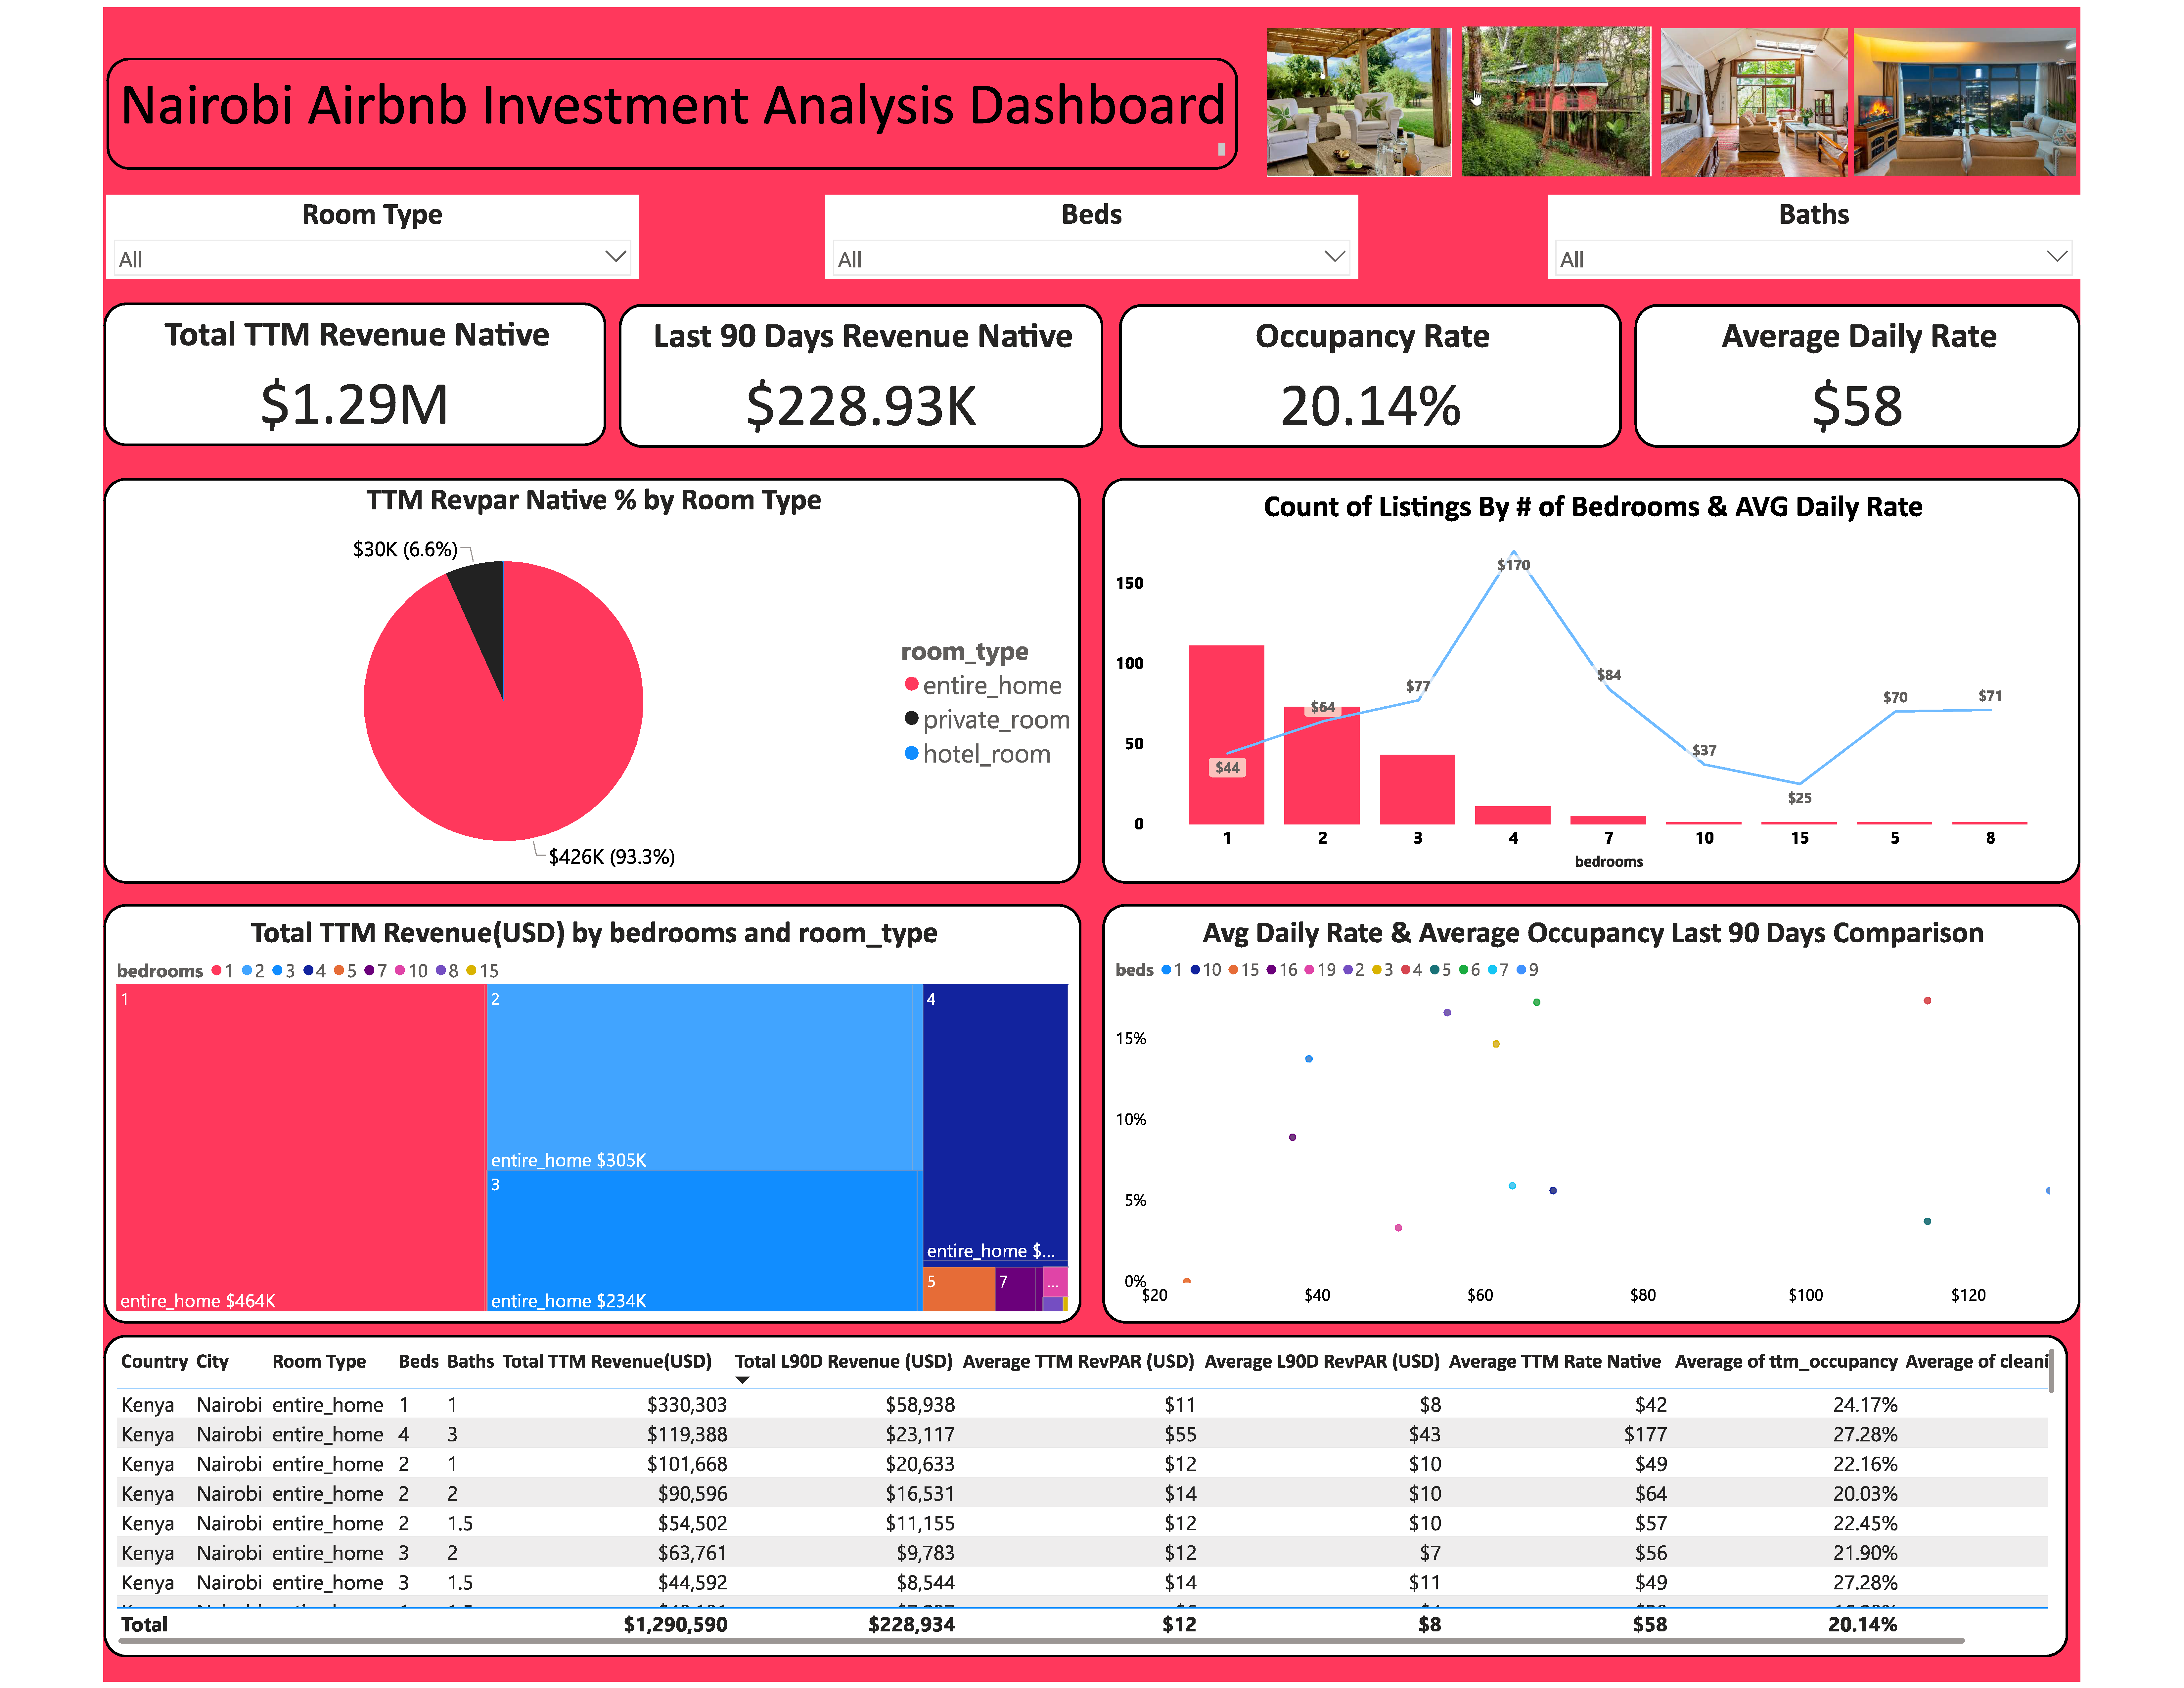

Layout of this report page (visuals, bound fields, positions):
{"tool":"powerbi","page":{"name":"Nairobi Airbnb Listings Data","canvas":[2600,2200],"ordinal":0},"visuals":[{"type":"card","title":"Total TTM Revenue Native","fields":{"Values":["Listings.Total TTM Revenue(USD)"]},"box":[0,387.8,661.2,187.8],"z":0},{"type":"card","title":"Last 90 Days Revenue Native","fields":{"Values":["Listings.Total L90D Revenue (USD)"]},"box":[677.6,389.8,636.7,187.8],"z":1000},{"type":"card","title":"Occupancy Rate","fields":{"Values":["Avg(Listings.ttm_occupancy)"]},"box":[1336.7,389.8,661.2,187.8],"z":2000},{"type":"card","title":"Average Daily Rate ","fields":{"Values":["Listings.Average TTM Rate Native"]},"box":[2014.3,389.8,585.7,187.8],"z":3000},{"type":"pieChart","title":"TTM Revpar Native % by Room Type","fields":{"Y":["Sum(Listings.ttm_revpar_native)"],"Category":["Listings.room_type"]},"box":[0,618.4,1285,532.7],"z":4000},{"type":"lineStackedColumnComboChart","title":"Count of Listings By # of Bedrooms & AVG Daily Rate","fields":{"Category":["Listings.bedrooms"],"Y":["CountNonNull(Listings.listing_id)"],"Y2":["Listings.Average TTM Rate Native"]},"box":[1314.3,618.4,1285.7,532.7],"z":5000},{"type":"treemap","fields":{"Group":["Listings.bedrooms","Listings.baths","Listings.room_type"],"Details":["Listings.room_type"],"Values":["Listings.Total TTM Revenue(USD)"]},"box":[0,1177.6,1285.7,551],"z":6000},{"type":"scatterChart","title":"Avg Daily Rate & Average Occupancy Last 90 Days Comparison","fields":{"Y":["Avg(Listings.l90d_occupancy)"],"X":["Listings.AVG Daily Rate Native Last 90 Days"],"Series":["Listings.beds"]},"box":[1314.3,1177.6,1285.7,551],"z":7000},{"type":"tableEx","fields":{"Values":["Listings.Country","Listings.City","Listings.room_type","Listings.beds","Listings.baths","Listings.Total TTM Revenue(USD)","Listings.Total L90D Revenue (USD)","Listings.Average TTM RevPAR (USD)","Listings.Average L90D RevPAR (USD)","Listings.Average TTM Rate Native","Avg(Listings.ttm_occupancy)","Avg(Listings.cleaning_fee)"]},"box":[0,1744.9,2583.7,424.5],"z":8000},{"type":"slicer","title":"Room Type","fields":{"Values":["Listings.room_type"]},"box":[4.1,246.9,700,110.2],"z":9000},{"type":"slicer","title":"Baths","fields":{"Values":["Listings.baths"]},"box":[1900,246.2,700,110],"z":10000},{"type":"slicer","title":"Beds","fields":{"Values":["Listings.beds"]},"box":[950,246.2,700,110],"z":11000},{"type":"image","box":[2295,22.5,305,203.8],"z":12000},{"type":"image","box":[2040,21.2,263.8,205],"z":13000},{"type":"image","box":[1781.2,0,258.8,246.2],"z":14000},{"type":"textbox","title":"Nairobi Airbnb Investment Analysis Dashboard","box":[4.1,65.3,1487.8,146.9],"z":15000},{"type":"image","box":[1520,22.5,263.8,205],"z":16000}]}

Visuals, with their boxes in screenshot pixels (x1, y1, x2, y2):
"Total TTM Revenue Native" card: box=[97, 300, 597, 442]
"Last 90 Days Revenue Native" card: box=[610, 301, 1092, 443]
"Occupancy Rate" card: box=[1109, 301, 1610, 443]
"Average Daily Rate " card: box=[1622, 301, 2066, 443]
"TTM Revpar Native % by Room Type" pieChart: box=[97, 474, 1070, 877]
"Count of Listings By # of Bedrooms & AVG Daily Rate" lineStackedColumnComboChart: box=[1092, 474, 2066, 877]
treemap - Listings.bedrooms x Listings.baths: box=[97, 898, 1070, 1315]
"Avg Daily Rate & Average Occupancy Last 90 Days Comparison" scatterChart: box=[1092, 898, 2066, 1315]
tableEx - Listings.Country x Listings.City: box=[97, 1327, 2053, 1649]
"Room Type" slicer: box=[100, 193, 630, 276]
"Baths" slicer: box=[1535, 192, 2066, 275]
"Beds" slicer: box=[816, 192, 1346, 275]
image: box=[1835, 23, 2066, 177]
image: box=[1641, 22, 1841, 177]
image: box=[1445, 6, 1641, 192]
"Nairobi Airbnb Investment Analysis Dashboard" textbox: box=[100, 55, 1226, 166]
image: box=[1248, 23, 1447, 178]
